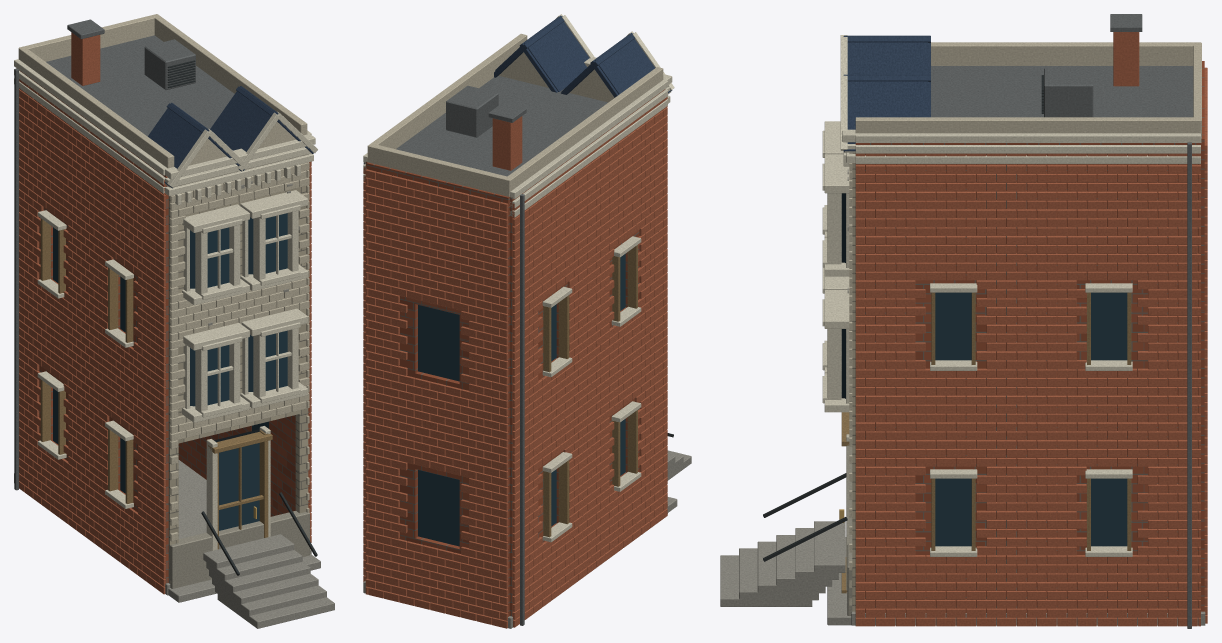
File: RUNDWN12_lod0.glb
The picture shows the model from 3 angles, left to right: view 1: azimuth 30°, elevation 25°; view 2: azimuth 150°, elevation 25°; view 3: azimuth 270°, elevation 25°; orthographic projection. The views are drawn at different scales.
Visible parts, largest first — view 1: RUNDWN12_LOD0; view 2: RUNDWN12_LOD0; view 3: RUNDWN12_LOD0.
Part boxes in pixels (left/top/right/bottom): RUNDWN12_LOD0: left=14, top=14, right=334, bottom=628; RUNDWN12_LOD0: left=363, top=14, right=691, bottom=628; RUNDWN12_LOD0: left=720, top=14, right=1207, bottom=628.
Size of the model in its own units: 3.71 by 10.45 by 8.46.
Materials: 18 (15 with a texture image).
